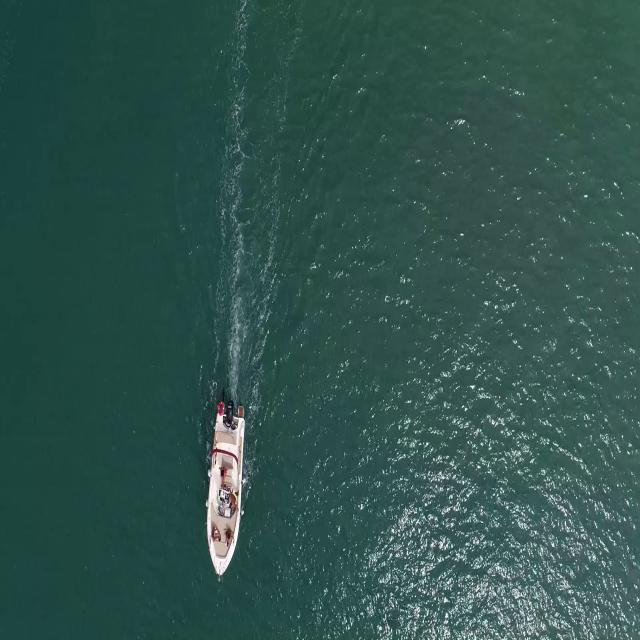boat: (203, 415, 247, 581)
life_buoy: (216, 402, 225, 414)
person: (209, 525, 221, 548), (228, 492, 240, 514), (218, 464, 228, 488), (224, 527, 234, 546)
